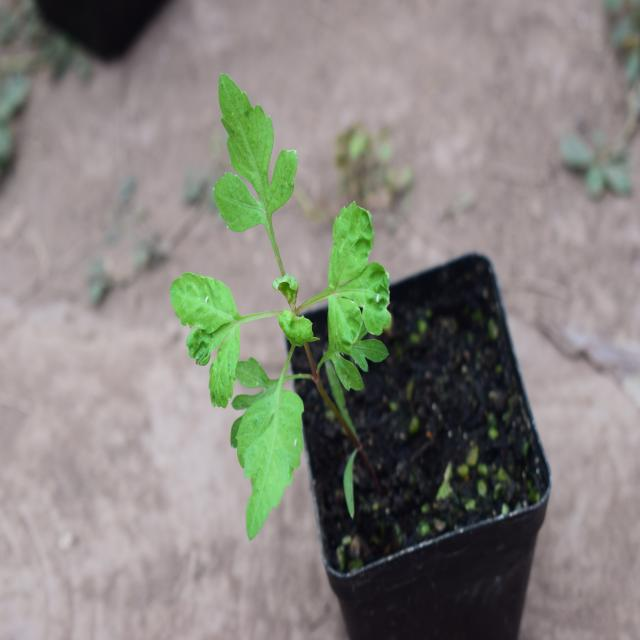Bidens pilosa: (158, 78, 392, 523)
